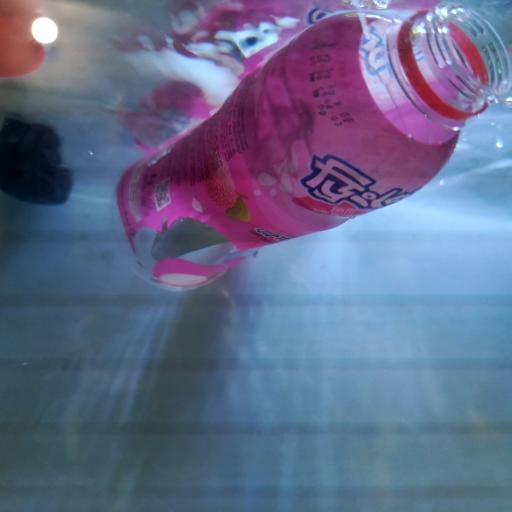bottle_cap: (2, 157, 70, 203)
plastic_bottle: (106, 0, 512, 295)
